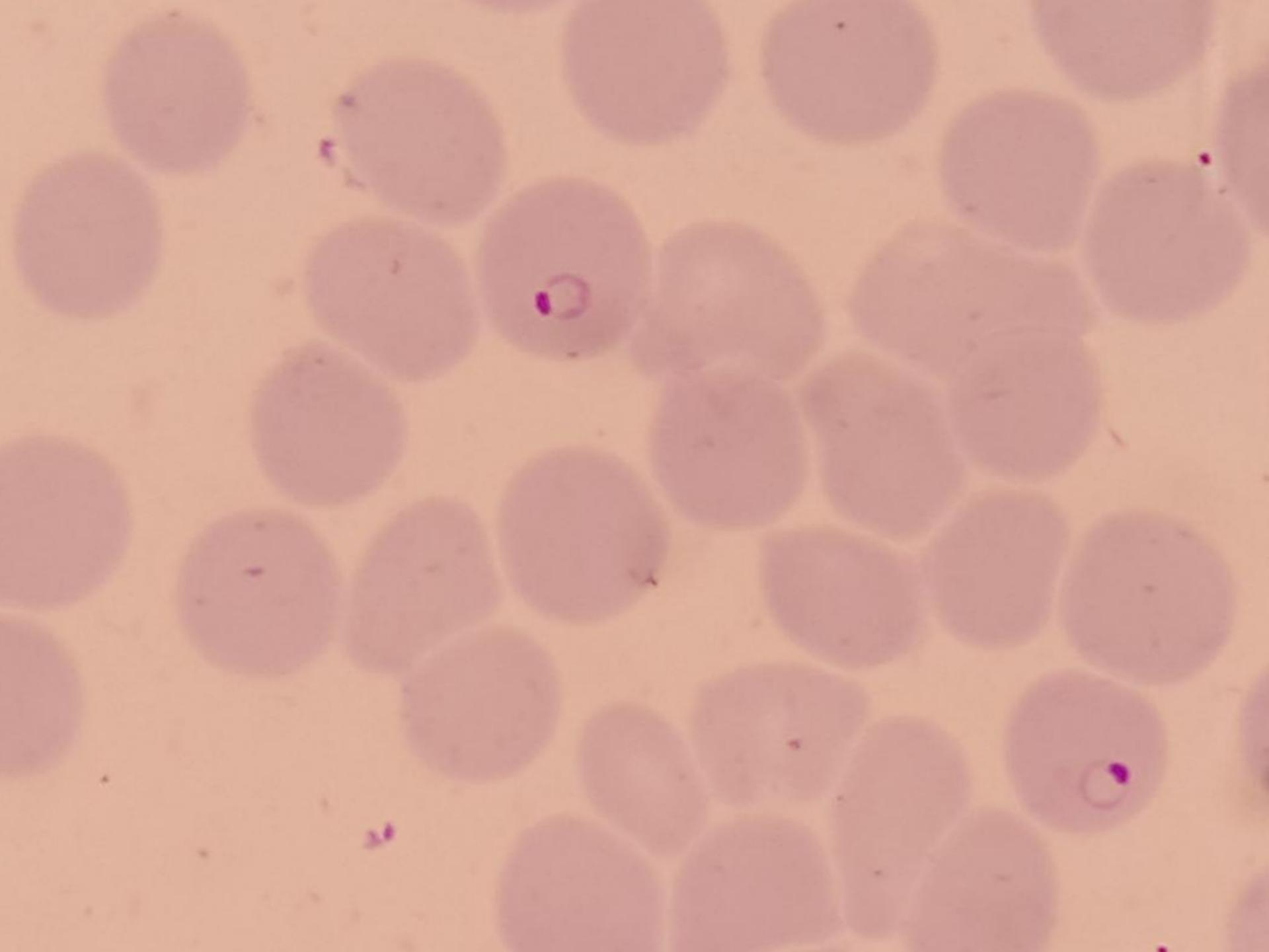Infected: (482, 178, 658, 361), (1005, 672, 1164, 834)
Uninfected: (858, 226, 1089, 387), (798, 352, 965, 540), (496, 449, 669, 625), (175, 506, 346, 682), (1064, 509, 1234, 686), (303, 218, 481, 387), (346, 496, 510, 678), (641, 221, 824, 384), (827, 717, 975, 912), (335, 58, 502, 224), (691, 662, 870, 813), (651, 363, 813, 527), (397, 628, 562, 787), (13, 147, 164, 316), (1083, 163, 1246, 319), (939, 91, 1098, 250), (924, 488, 1074, 656), (764, 1, 938, 144), (250, 349, 406, 507), (945, 324, 1100, 482), (763, 523, 925, 672), (669, 817, 847, 952), (1, 435, 132, 616), (101, 21, 251, 174), (563, 0, 723, 143), (497, 817, 664, 949), (902, 811, 1058, 952), (576, 700, 709, 856), (1040, 3, 1210, 98), (3, 618, 83, 781)
